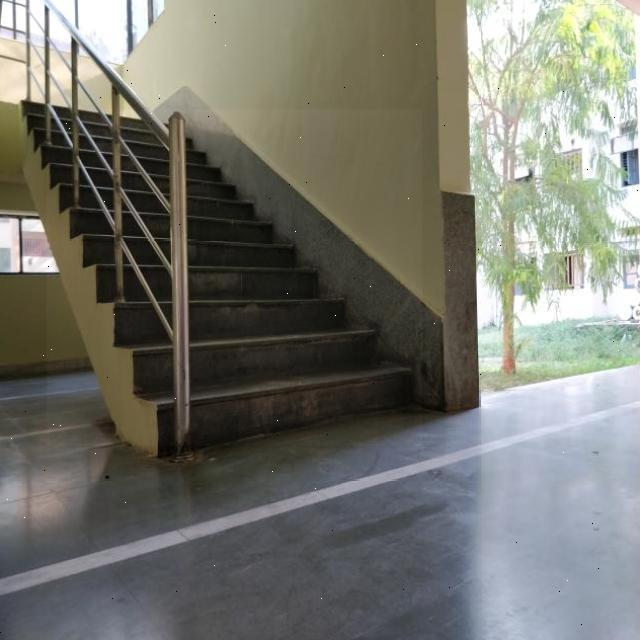stair: (47, 110, 422, 447)
